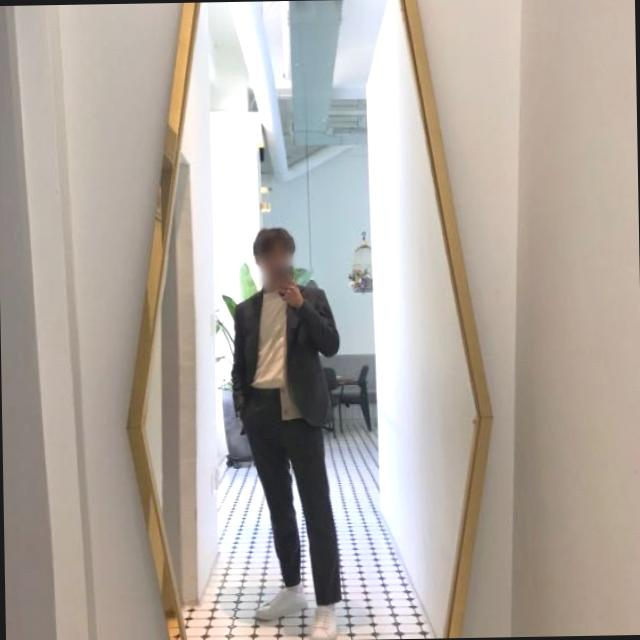blazer: (226, 282, 342, 432)
denimpants: (242, 383, 344, 604)
